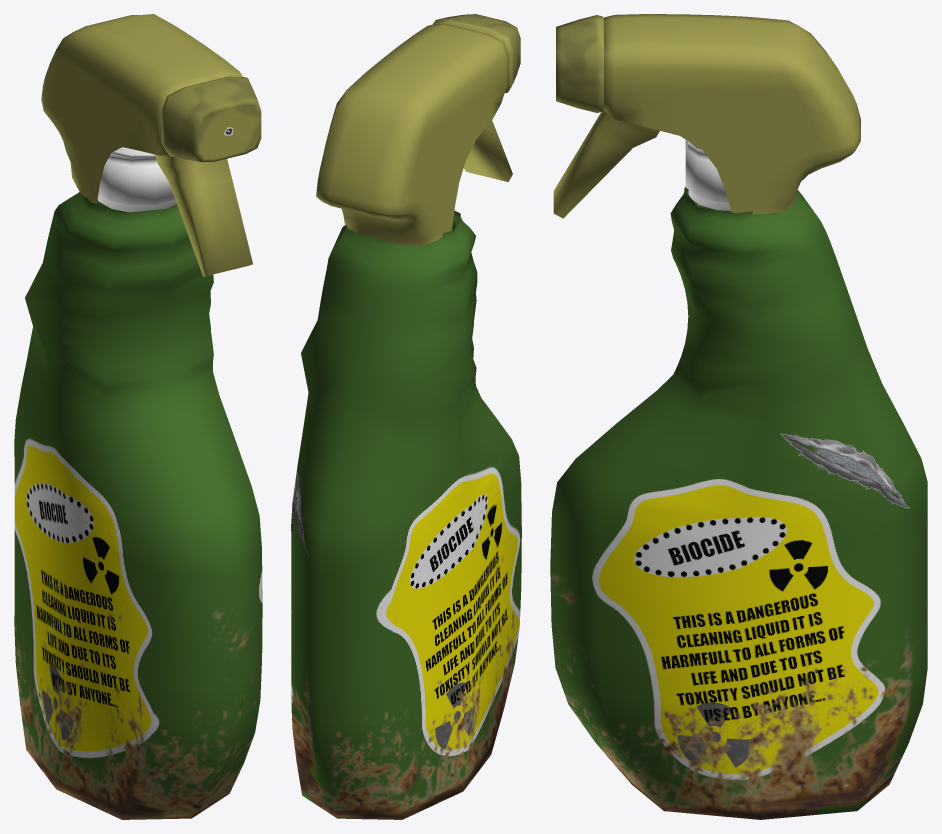
File: Spray.fbx
The picture shows the model from 3 angles, left to right: view 1: azimuth 30°, elevation 25°; view 2: azimuth 150°, elevation 25°; view 3: azimuth 270°, elevation 25°; orthographic projection. The views are drawn at different scales.
Parts seen in each view (by area): view 1: Cube, Plane, Plane.001, Cylinder; view 2: Cube, Plane, Plane.001; view 3: Cube, Plane, Plane.001, Cylinder.
Boxes of the visible parts, x1,y1,x2,y2 form: Cube: [14, 192, 262, 819]; Plane: [41, 14, 261, 204]; Plane.001: [155, 154, 252, 276]; Cylinder: [97, 147, 176, 212]; Cube: [291, 210, 521, 819]; Plane: [316, 14, 520, 246]; Plane.001: [463, 120, 512, 181]; Cube: [550, 187, 927, 819]; Plane: [556, 14, 860, 214]; Plane.001: [553, 109, 659, 218]; Cylinder: [685, 140, 730, 210].
Size of the model in its own units: 20 by 99.76 by 45.15.
3 materials, 2 textured.
